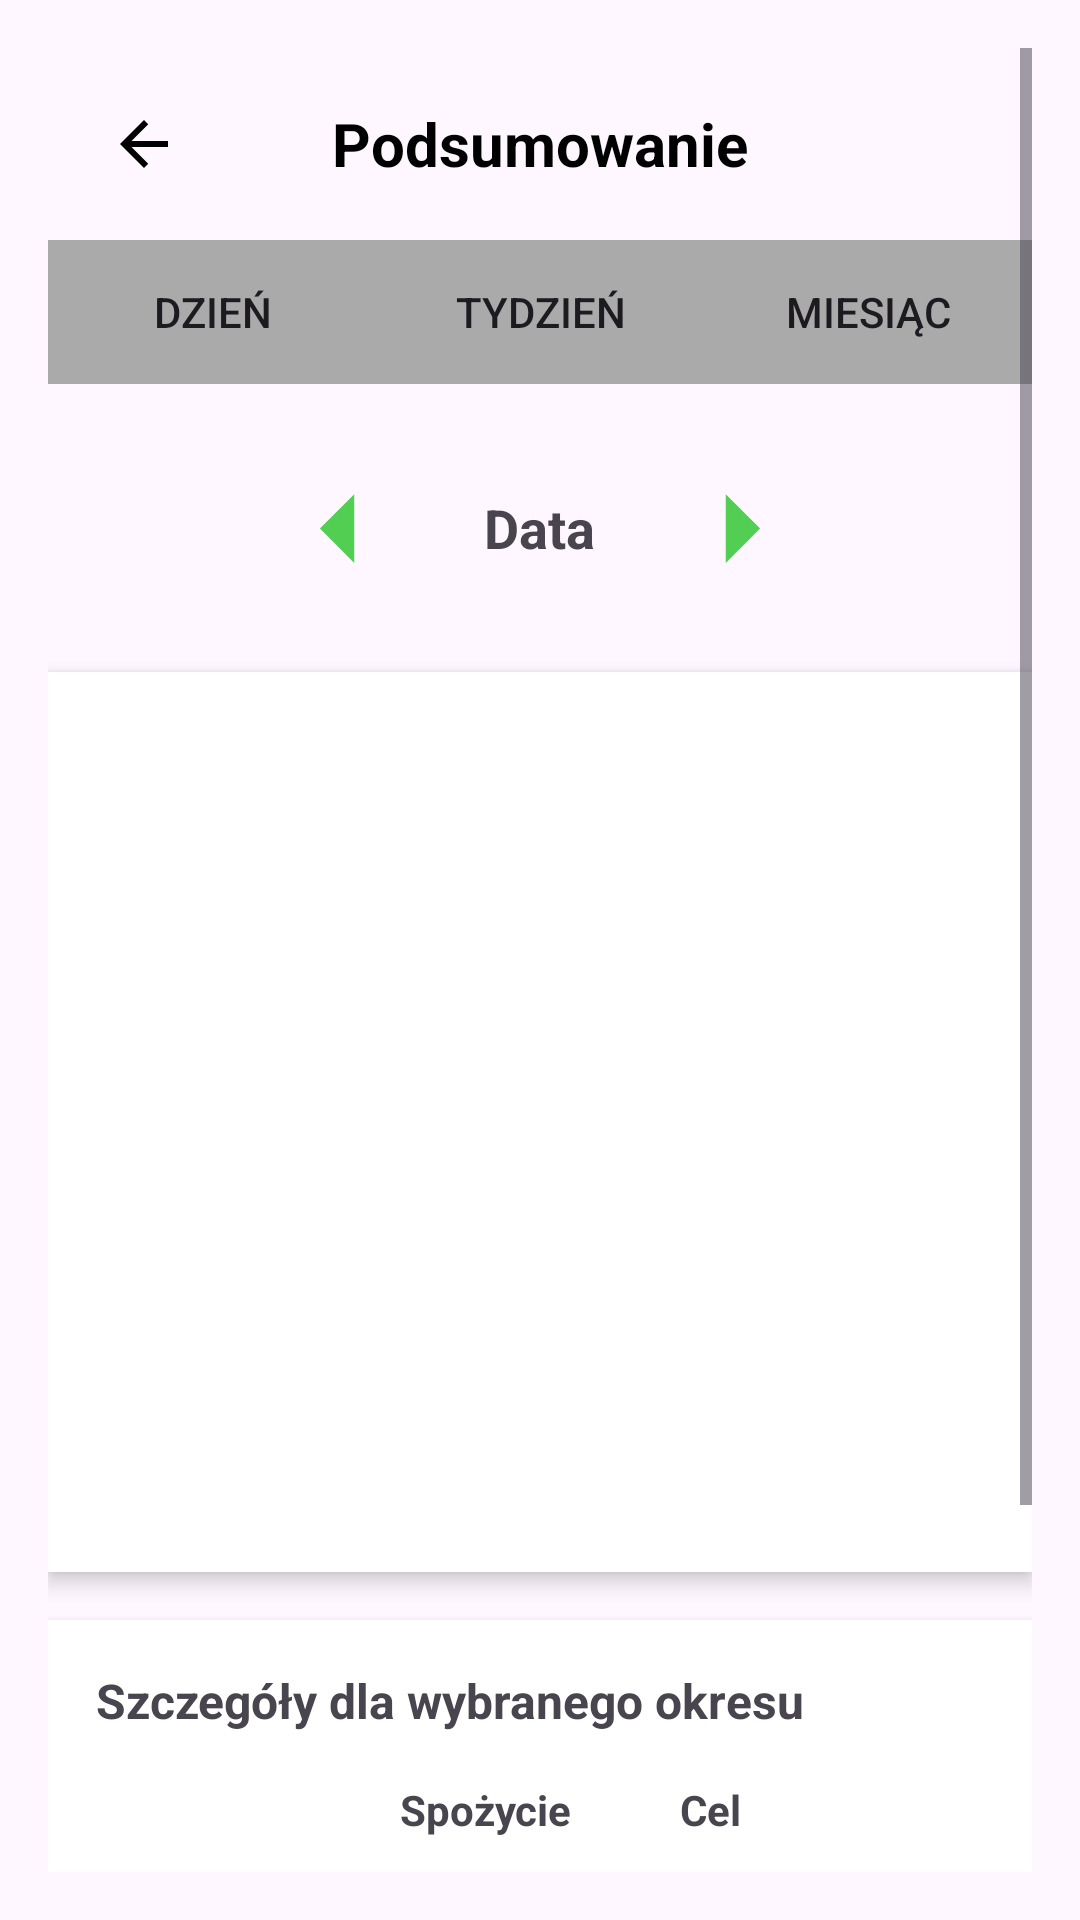

Icons on this 1080px x 1920px Android screen, each with its box as (x1, y1, x2, y2):
Następny dzień: (725, 494, 760, 563)
Powrót: (120, 120, 168, 168)
